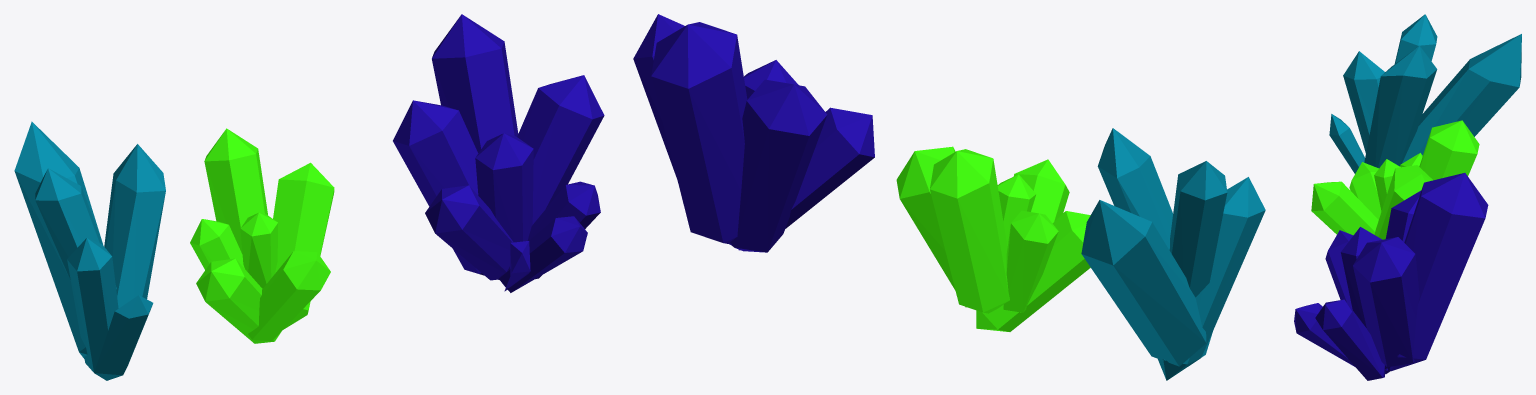
The model's file is LowPollyCrystals.fbx.
3 views of the same model, side by side, from view 1: azimuth 30°, elevation 25°; view 2: azimuth 150°, elevation 25°; view 3: azimuth 270°, elevation 25° (orthographic). The views are drawn at different scales.
Visible parts, largest first — view 1: Spindle003, Spindle004, Spindle008; view 2: Spindle003, Spindle004, Spindle008; view 3: Spindle003, Spindle004, Spindle008.
Part boxes in pixels (left/top/right/bottom): Spindle003: left=393, top=14, right=604, bottom=292; Spindle004: left=14, top=121, right=165, bottom=380; Spindle008: left=190, top=128, right=334, bottom=343; Spindle003: left=633, top=14, right=874, bottom=252; Spindle004: left=1081, top=128, right=1265, bottom=380; Spindle008: left=896, top=146, right=1090, bottom=331; Spindle003: left=1294, top=173, right=1488, bottom=380; Spindle004: left=1329, top=14, right=1521, bottom=173; Spindle008: left=1311, top=120, right=1479, bottom=239.
Size of the model in its own units: 1186 by 517 by 497.
